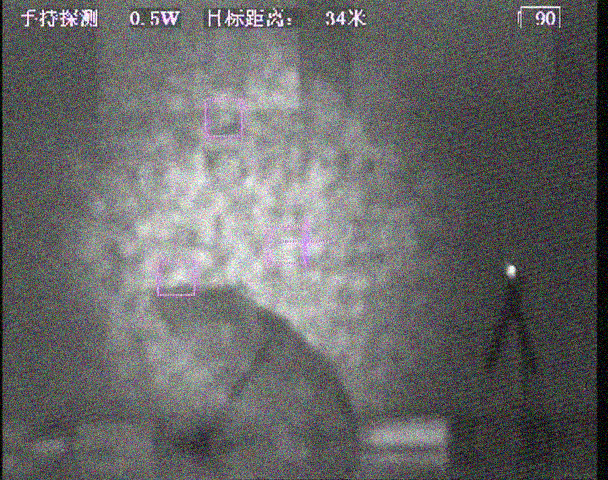my: (505, 263, 518, 276)
